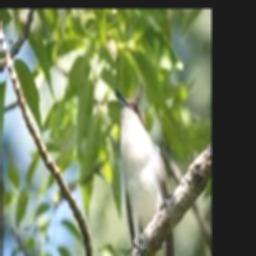Cuckoo: (112, 87, 174, 256)
